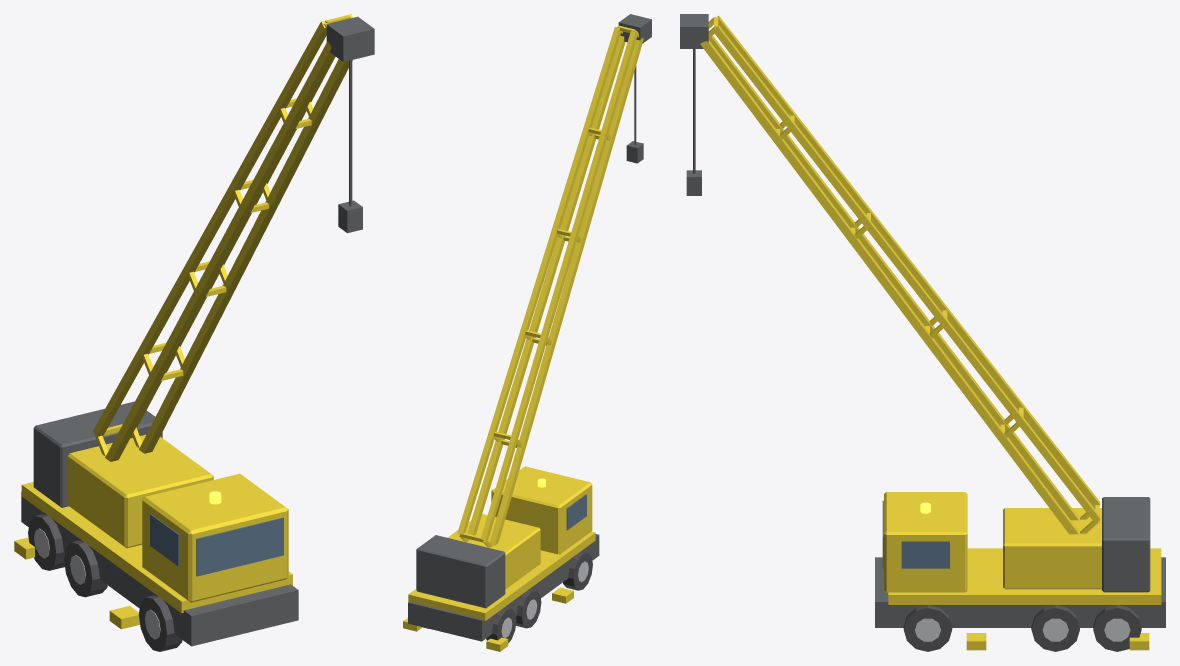
Rendered from crane.glb.
The picture shows the model from 3 angles, left to right: view 1: azimuth 30°, elevation 25°; view 2: azimuth 150°, elevation 25°; view 3: azimuth 270°, elevation 25°; orthographic projection. The views are drawn at different scales.
Parts seen in each view (by area): view 1: cab, turret, chassis, boom_bl, boom_br, boom_tl, counterweight, deck, cab_windshield, pulley_head, tire_-1.18_-2.1, tire_-1.18_0.8 (+6 smaller); view 2: counterweight, cab, boom_bl, boom_tl, boom_br, boom_tr, chassis, deck, turret, tire_-1.18_-2.1, tire_-1.18_0.8, pulley_head (+2 smaller); view 3: turret, cab, boom_br, deck, boom_tr, chassis, boom_tl, counterweight, boom_bl, cab_side_win, tire_1.18_-2.1, tire_1.18_0.8 (+2 smaller).
Part boxes in pixels (bbox=[...]): cab: bbox=[142, 473, 288, 602]; turret: bbox=[67, 434, 213, 548]; chassis: bbox=[21, 492, 298, 646]; boom_bl: bbox=[105, 41, 334, 461]; boom_br: bbox=[139, 59, 352, 453]; boom_tl: bbox=[93, 20, 326, 437]; counterweight: bbox=[33, 401, 162, 507]; deck: bbox=[21, 482, 292, 613]; cab_windshield: bbox=[196, 517, 283, 576]; pulley_head: bbox=[326, 16, 374, 61]; tire_-1.18_-2.1: bbox=[138, 595, 182, 651]; tire_-1.18_0.8: bbox=[64, 540, 107, 597]; counterweight: bbox=[416, 535, 505, 608]; cab: bbox=[491, 466, 592, 554]; boom_bl: bbox=[489, 38, 643, 545]; boom_tl: bbox=[480, 30, 637, 541]; boom_br: bbox=[467, 35, 625, 539]; boom_tr: bbox=[457, 27, 621, 534]; chassis: bbox=[408, 534, 599, 641]; deck: bbox=[408, 531, 595, 621]; turret: bbox=[447, 514, 540, 589]; tire_-1.18_-2.1: bbox=[563, 551, 592, 590]; tire_-1.18_0.8: bbox=[516, 589, 541, 628]; pulley_head: bbox=[618, 14, 651, 43]; turret: bbox=[1003, 508, 1101, 589]; cab: bbox=[884, 492, 967, 593]; boom_br: bbox=[700, 40, 1078, 534]; deck: bbox=[888, 548, 1161, 604]; boom_tr: bbox=[713, 25, 1100, 522]; chassis: bbox=[875, 557, 1165, 627]; boom_tl: bbox=[713, 16, 1100, 508]; counterweight: bbox=[1102, 497, 1150, 592]; boom_bl: bbox=[708, 30, 1078, 520]; cab_side_win: bbox=[901, 541, 949, 568]; tire_1.18_-2.1: bbox=[903, 605, 952, 651]; tire_1.18_0.8: bbox=[1031, 605, 1079, 651].
Size of the model in its own units: 3.15 by 15.18 by 11.02.
